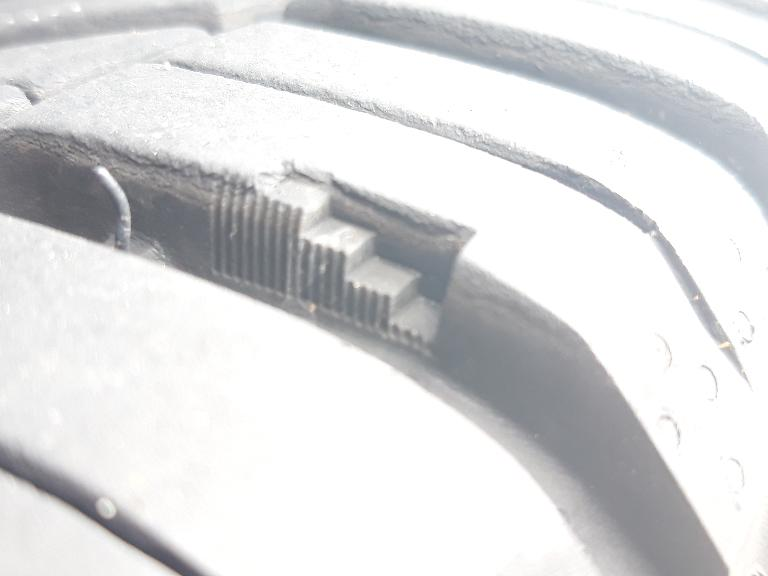temoin:90: (190, 142, 494, 378)
